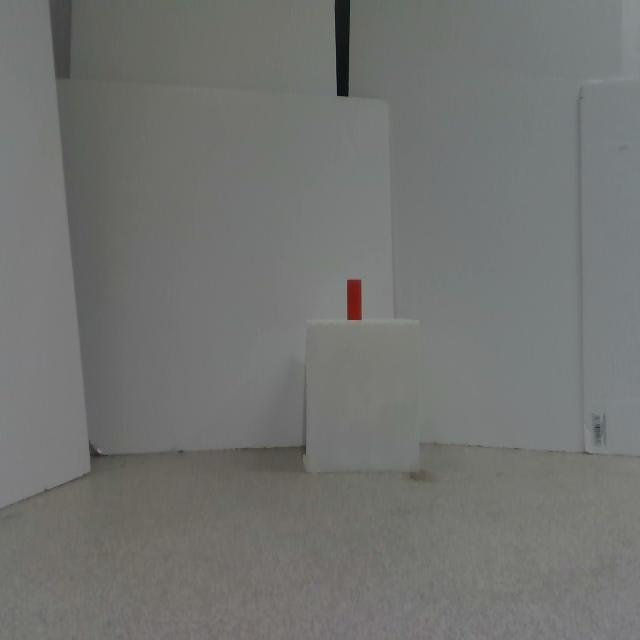red_cylinder: (347, 280, 362, 320)
